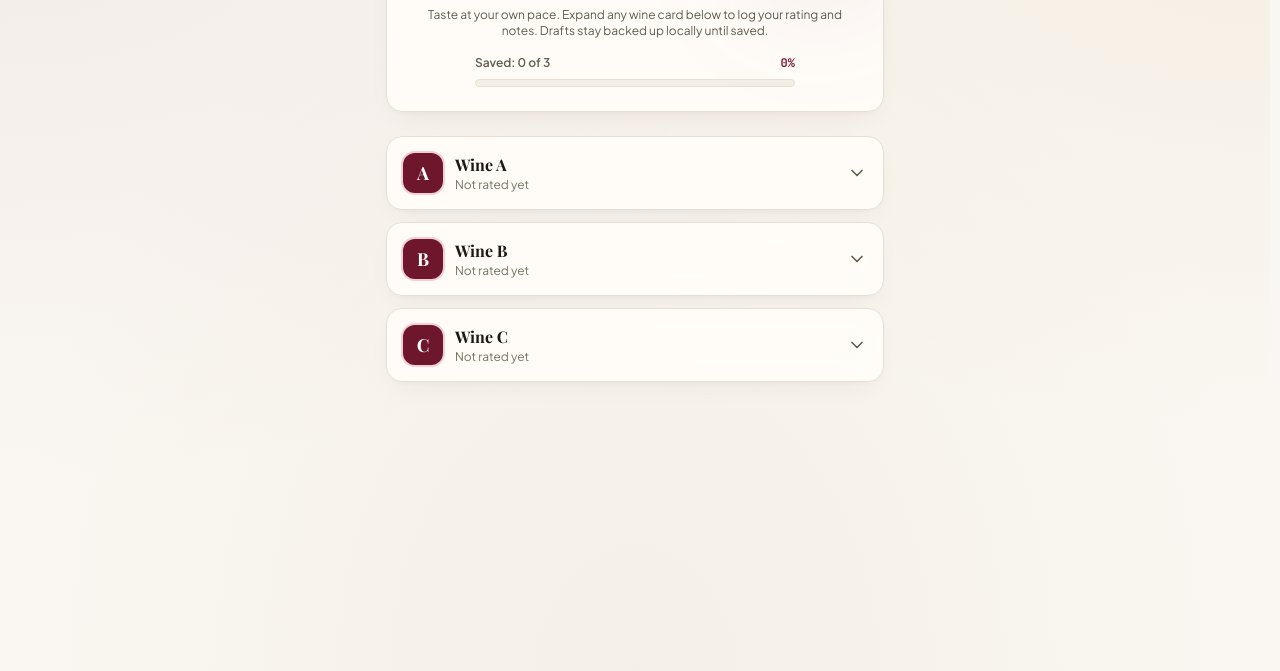
Scenario: TastingSheet › batch-saves all unsaved drafts and keeps failed drafts for retry
Click the button "A Wine A Not rated yet" at (423, 172), box [387, 136, 883, 208]
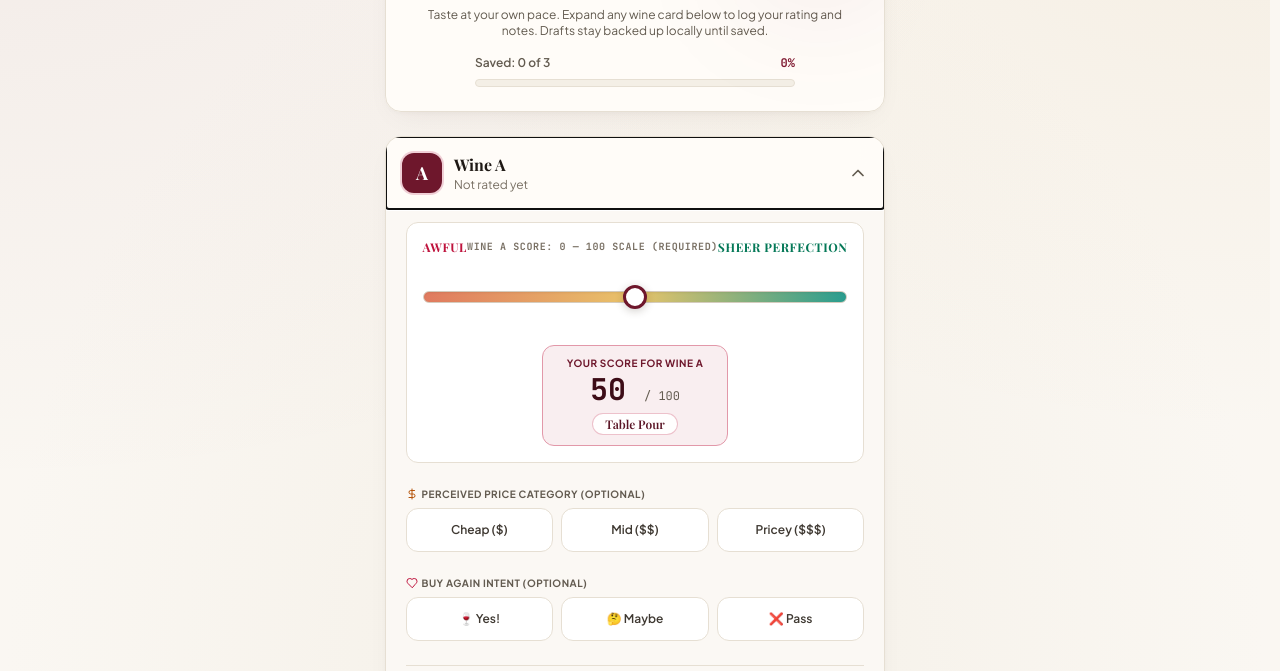
Set the slider labelled "Wine A Score: 0 — 100 Scale (Required)" to "82" at (766, 296), box [422, 274, 848, 318]
(page scrolled)
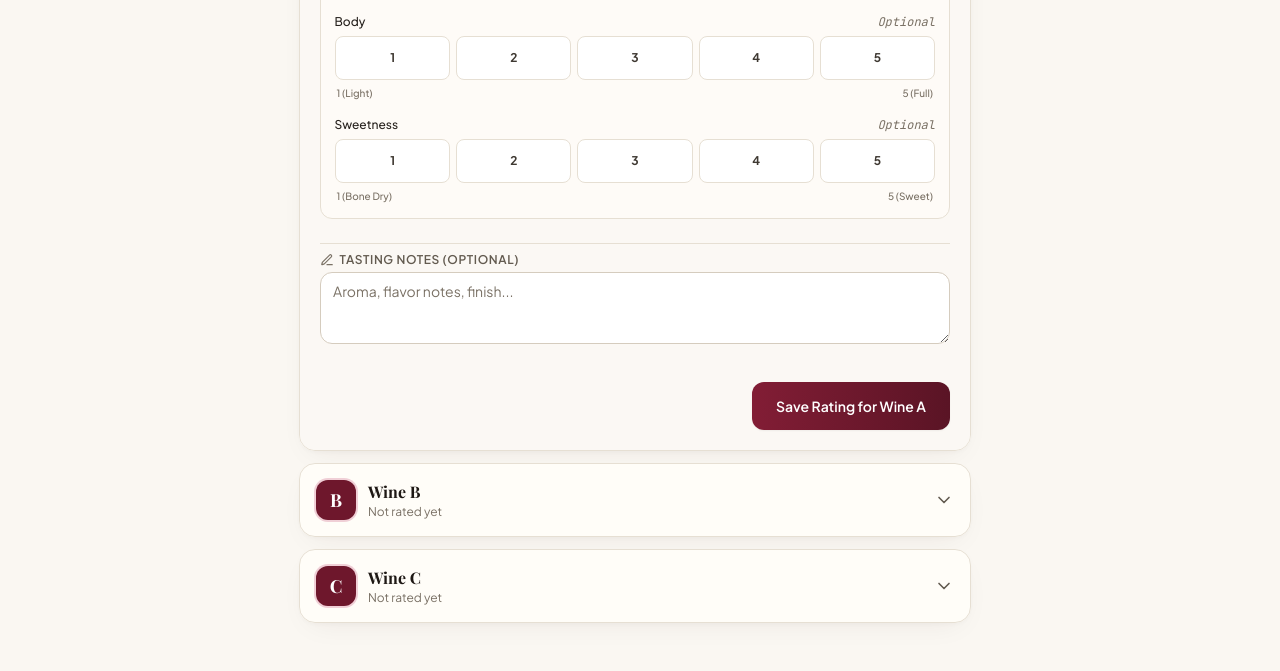
Click the button "C Wine C Not rated yet" at (336, 586), box [300, 550, 970, 622]
(page scrolled)
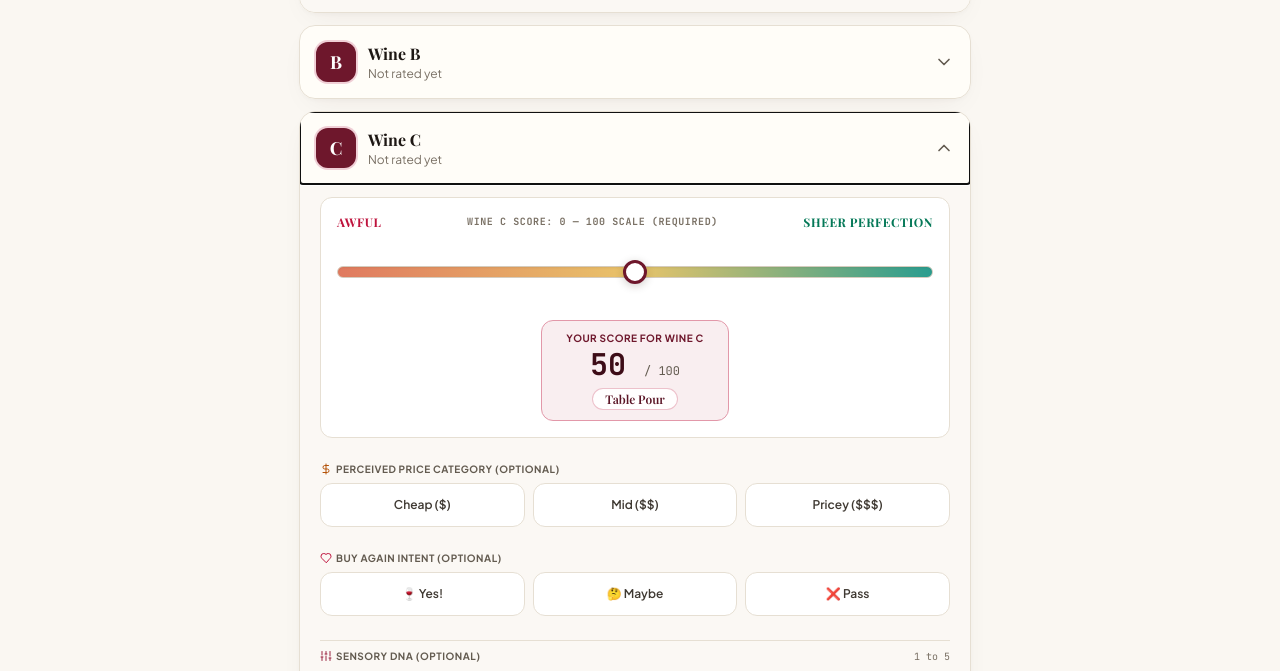
Set the slider labelled "Wine C Score: 0 — 100 Scale (Required)" to "74" at (774, 272), box [337, 250, 933, 294]
(page scrolled)
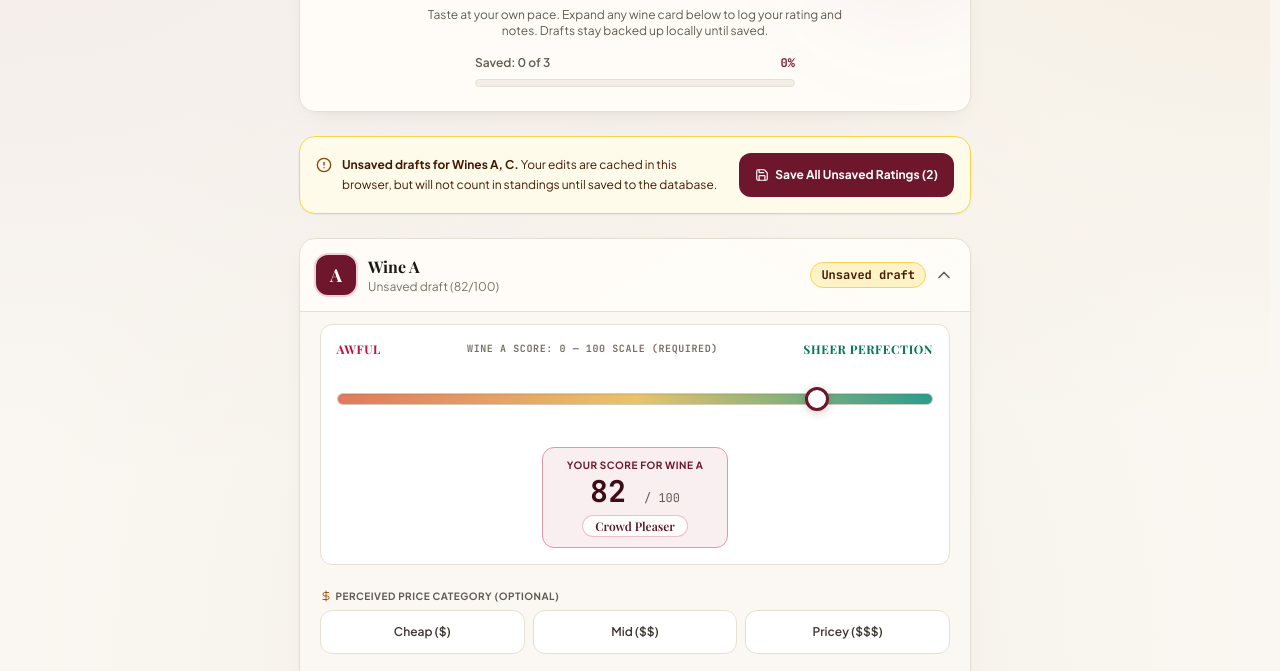
Click the button "Save All Unsaved Ratings (2)" at (847, 174), box [739, 152, 954, 196]
(page scrolled)
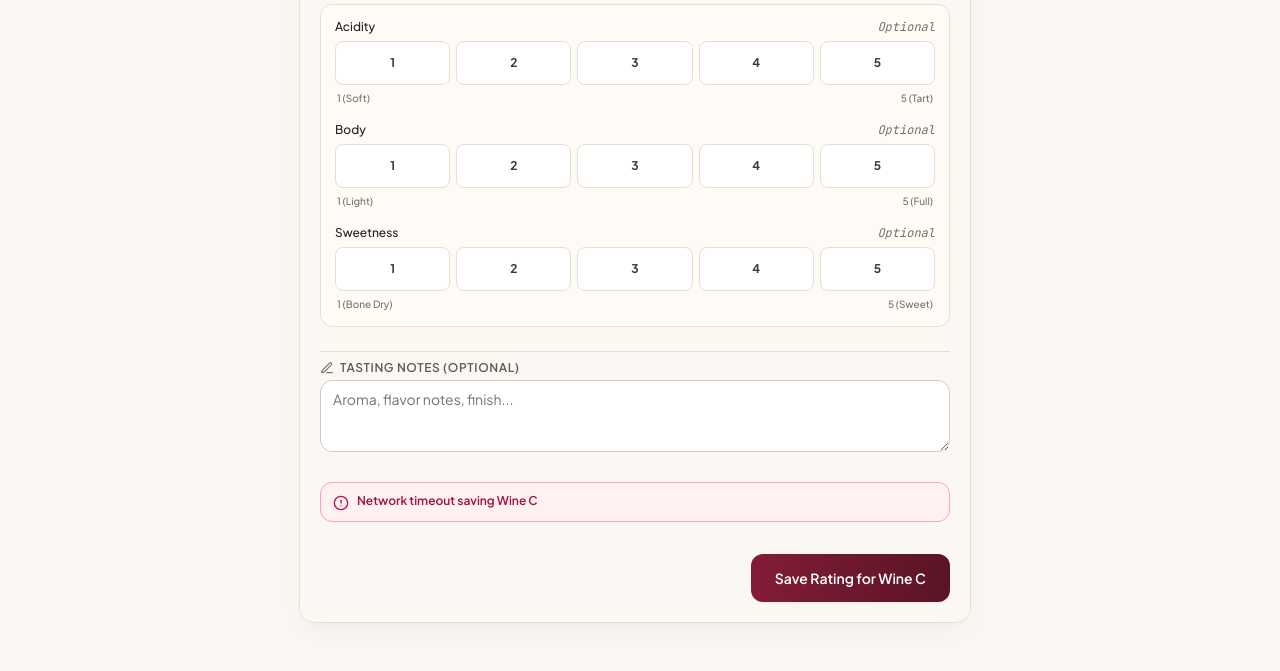
Check: the message reads "Network timeout saving Wine C", box [357, 492, 538, 508]
